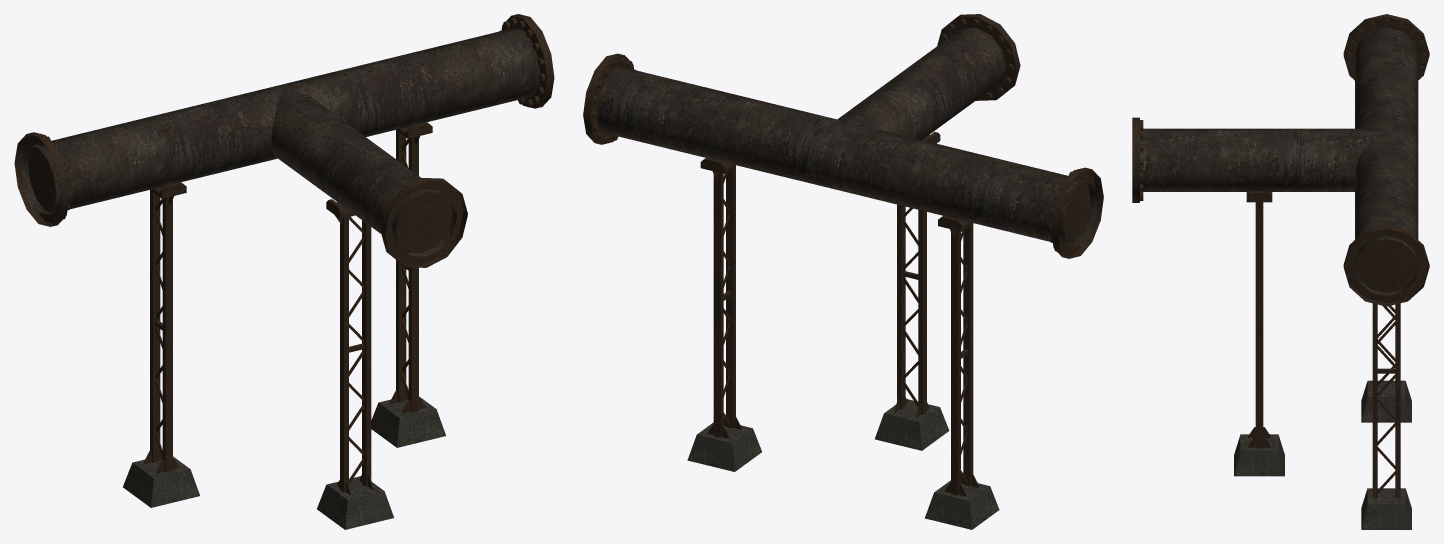
Rendered from pipe_cx_4.glb.
The picture shows the model from 3 angles, left to right: view 1: azimuth 30°, elevation 25°; view 2: azimuth 150°, elevation 25°; view 3: azimuth 270°, elevation 25°; orthographic projection. The views are drawn at different scales.
Parts seen in each view (by area): view 1: pipe_cx_4; view 2: pipe_cx_4; view 3: pipe_cx_4.
Part boxes in pixels (left/top/right/bottom): pipe_cx_4: left=14, top=14, right=554, bottom=529; pipe_cx_4: left=583, top=14, right=1103, bottom=529; pipe_cx_4: left=1132, top=14, right=1429, bottom=529.
Size of the model in its own units: 4 by 2.99 by 2.34.
3 materials, 3 textured.
